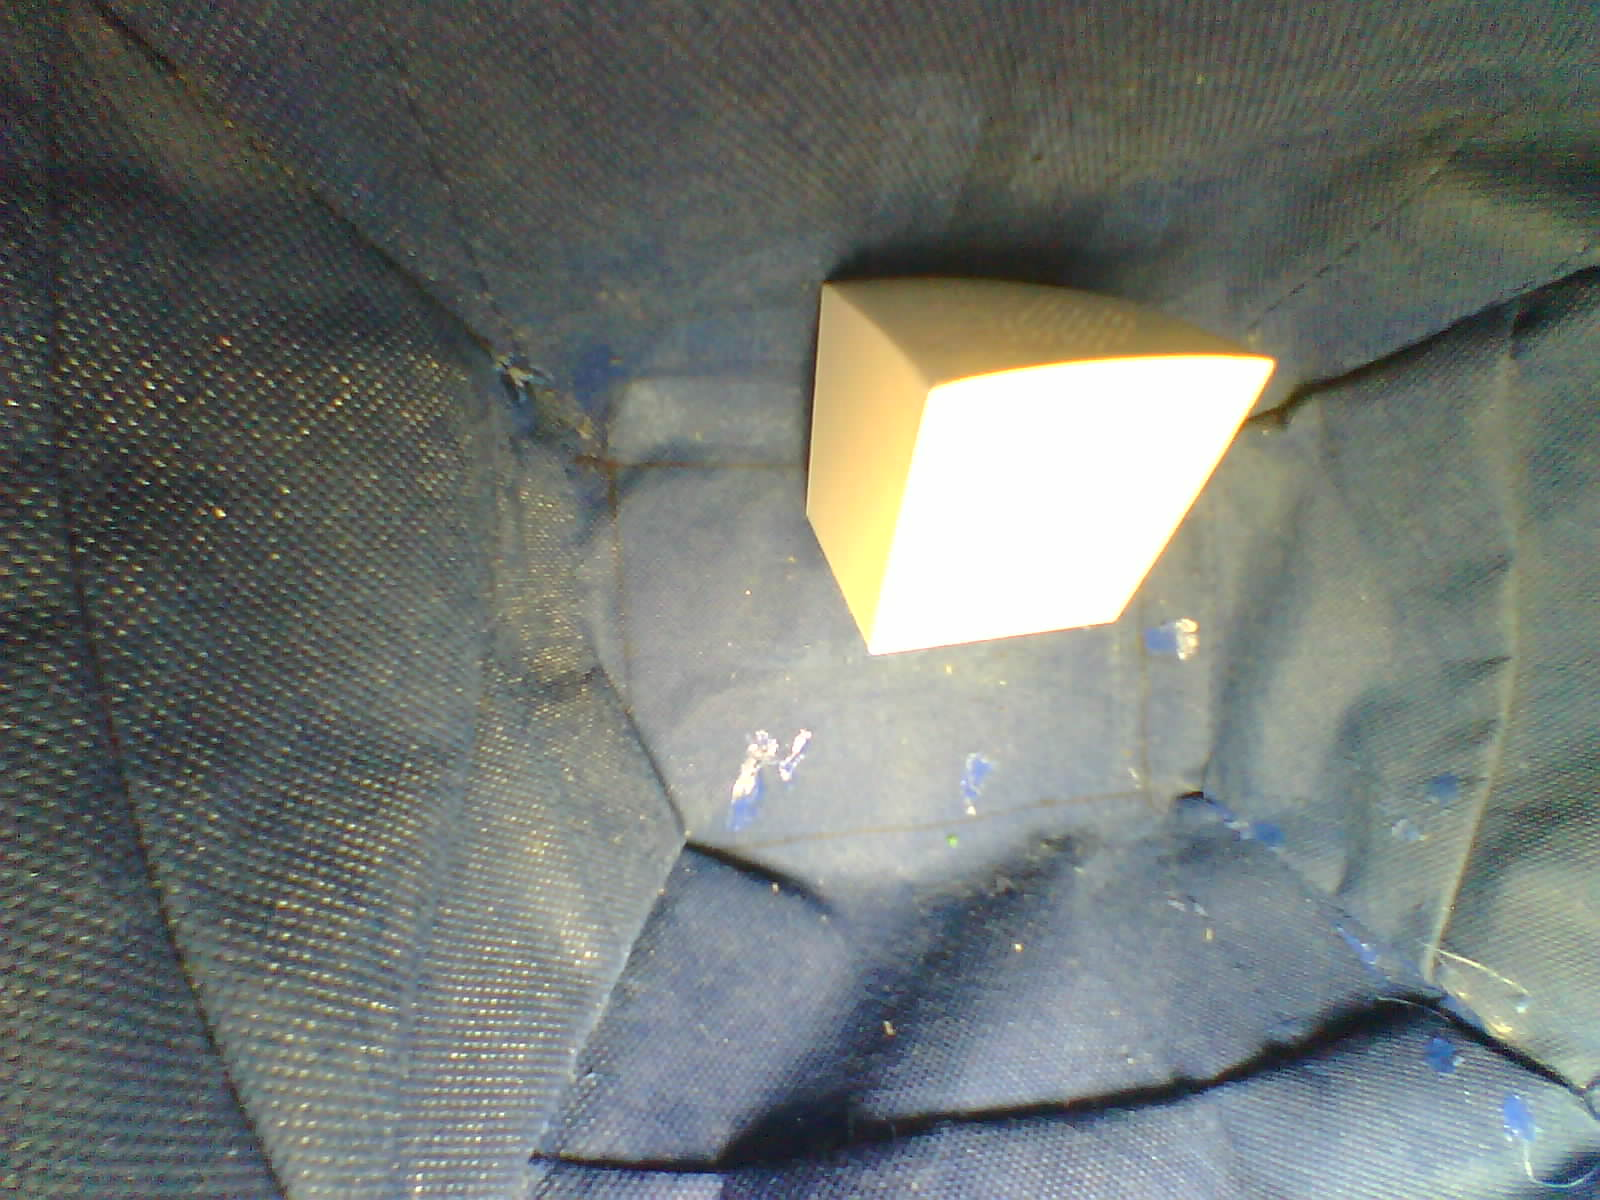cube-hard: (782, 250, 1291, 657)
